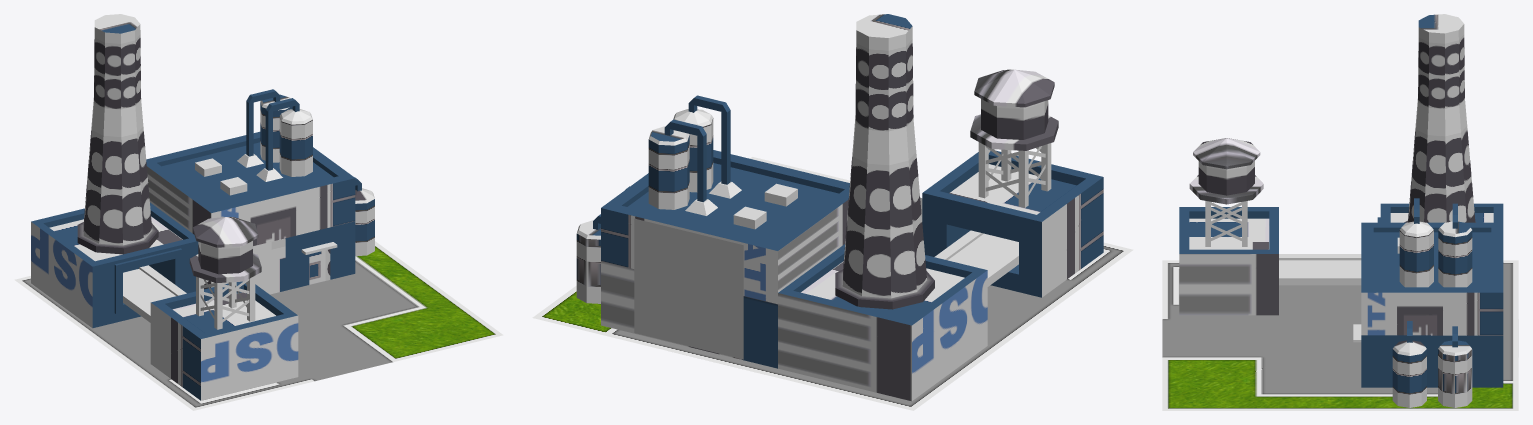
Rendered from Smelter_Plant_lvl_3.fbx.
The picture shows the model from 3 angles, left to right: view 1: azimuth 30°, elevation 25°; view 2: azimuth 150°, elevation 25°; view 3: azimuth 270°, elevation 25°; orthographic projection. The views are drawn at different scales.
Visible parts, largest first — view 1: Smelter_Plant_Lvl_3, Smelter_Plant_BG, Smelter_Plant_Lvl_3.001; view 2: Smelter_Plant_Lvl_3, Graffiti_001, Smelter_Plant_BG, Smelter_Plant_Lvl_3.001; view 3: Smelter_Plant_Lvl_3, Smelter_Plant_BG, Smelter_Plant_Lvl_3.001.
Boxes of the visible parts, x1=… form: Smelter_Plant_Lvl_3: x1=31, y1=14, x2=374, y2=400; Smelter_Plant_BG: x1=14, y1=241, x2=503, y2=410; Smelter_Plant_Lvl_3.001: x1=200, y1=279, x2=249, y2=322; Smelter_Plant_Lvl_3: x1=576, y1=14, x2=1103, y2=401; Graffiti_001: x1=634, y1=218, x2=743, y2=359; Smelter_Plant_BG: x1=532, y1=157, x2=1133, y2=410; Smelter_Plant_Lvl_3.001: x1=985, y1=146, x2=1045, y2=198; Smelter_Plant_Lvl_3: x1=1179, y1=14, x2=1503, y2=407; Smelter_Plant_BG: x1=1162, y1=260, x2=1518, y2=410; Smelter_Plant_Lvl_3.001: x1=1211, y1=202, x2=1241, y2=240.
Size of the model in its own units: 2000 by 1657 by 2000.
